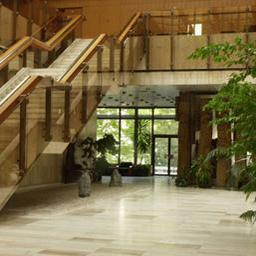Escaleras: (1, 15, 144, 214)
Matera: (133, 122, 152, 178), (95, 136, 114, 178), (194, 155, 217, 189), (174, 160, 191, 188)
